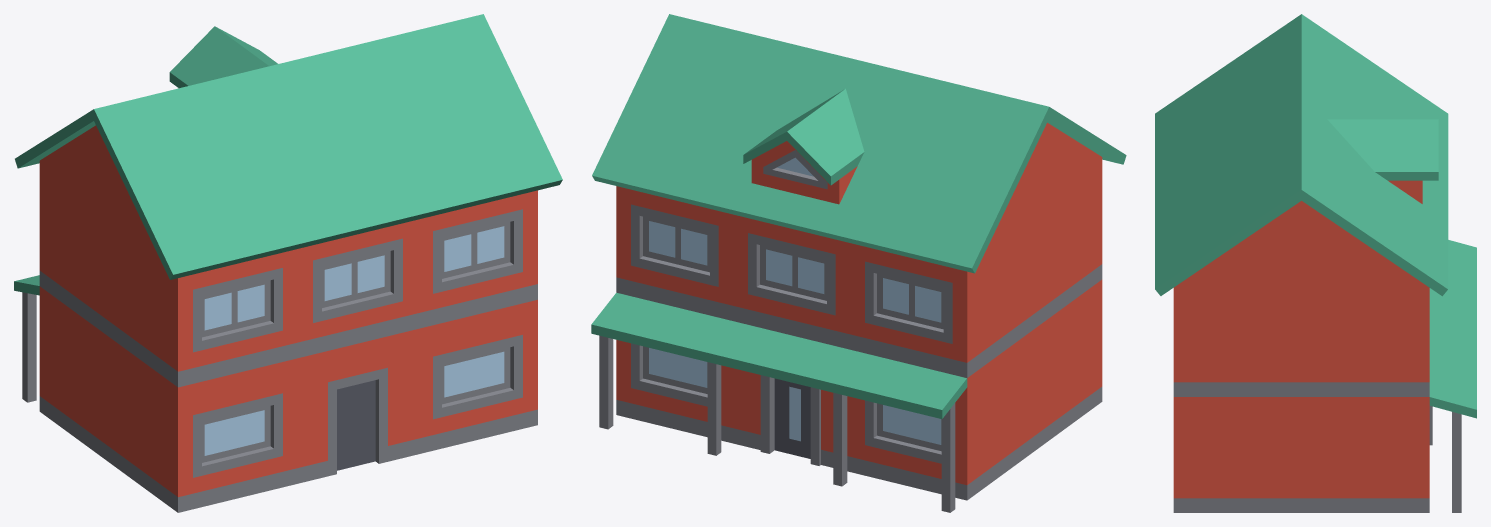
Rendered from house_type12.fbx.
3 views of the same model, side by side, from view 1: azimuth 30°, elevation 25°; view 2: azimuth 150°, elevation 25°; view 3: azimuth 270°, elevation 25° (orthographic). The views are drawn at different scales.
Visible parts, largest first — view 1: house_type12; view 2: house_type12; view 3: house_type12.
Boxes of the visible parts, x1,y1,x2,y2 form: house_type12: [14, 14, 562, 512]; house_type12: [591, 14, 1126, 512]; house_type12: [1155, 14, 1476, 512].
Size of the model in its own units: 13 by 11.38 by 10.06.
